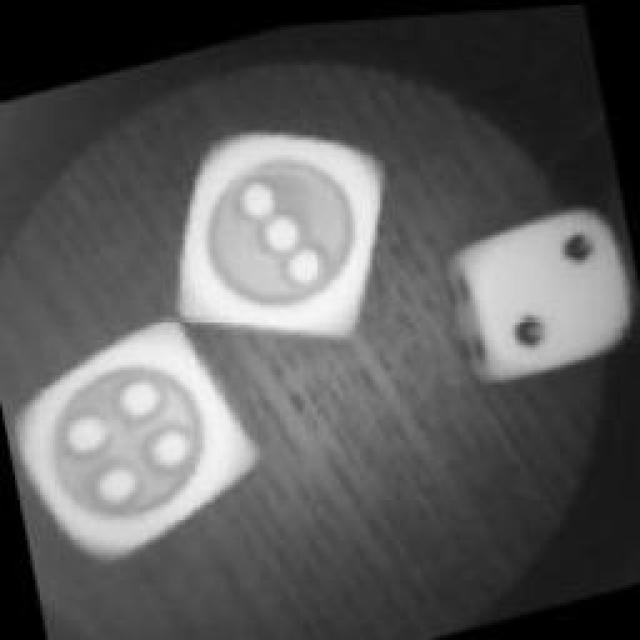dice_2: (447, 192, 640, 395)
dice_3: (159, 95, 406, 375)
dice_4: (0, 296, 258, 572)
